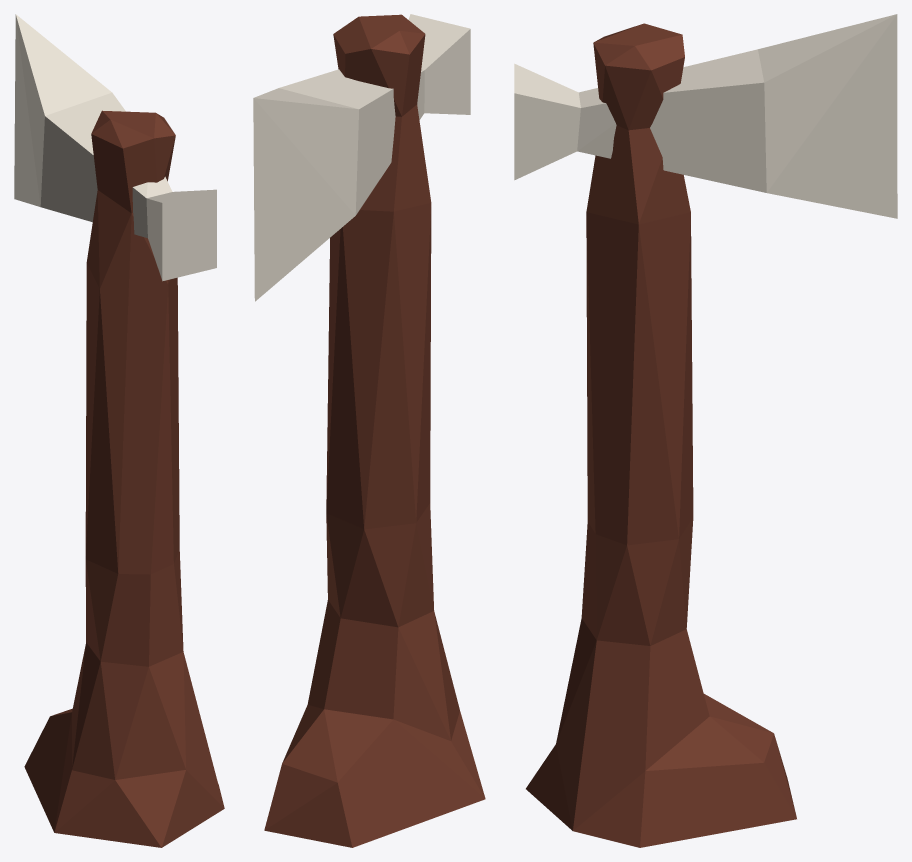
The model's file is Balta.fbx.
3 renders of one model, left to right at view 1: azimuth 30°, elevation 25°; view 2: azimuth 150°, elevation 25°; view 3: azimuth 270°, elevation 25°, orthographic. The views are drawn at different scales.
Parts seen in each view (by area): view 1: Cylinder, Cube; view 2: Cylinder, Cube; view 3: Cylinder, Cube.
Boxes of the visible parts, box(x1,y1,x2,y2) form: Cylinder: box(24, 110, 224, 847); Cube: box(14, 14, 216, 281); Cylinder: box(264, 14, 485, 847); Cube: box(253, 14, 470, 301); Cylinder: box(526, 23, 796, 847); Cube: box(514, 14, 897, 218).
Bounding box in the file's own units: 50.55 × 197 × 86.91.
